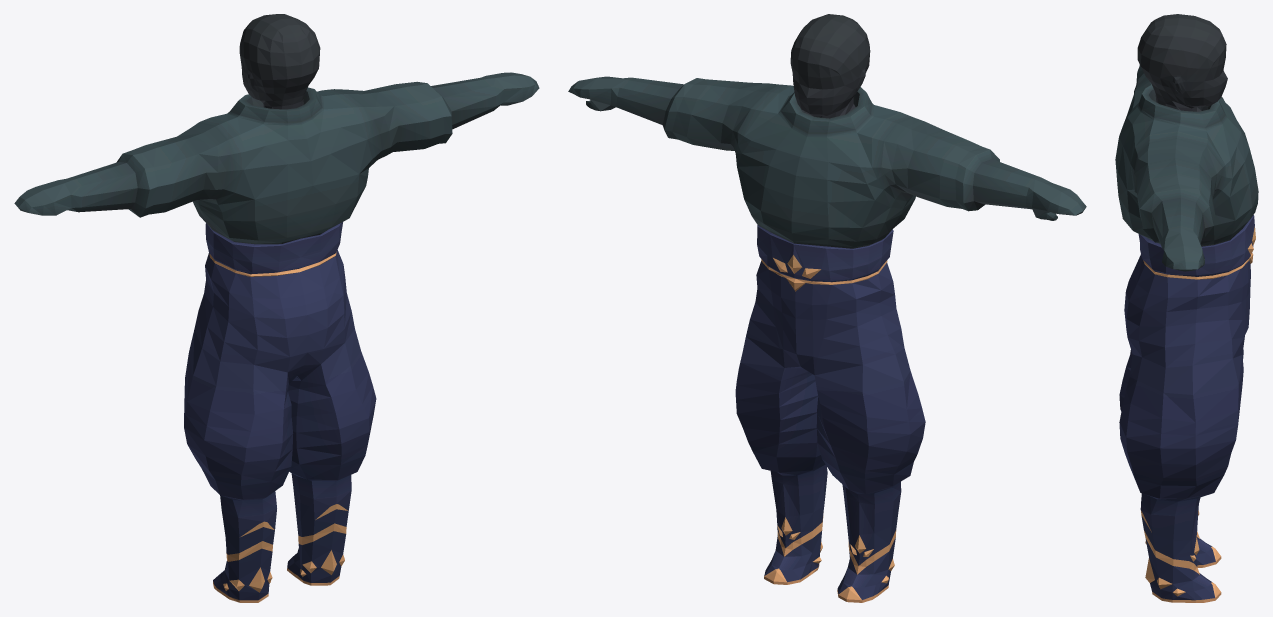
The model's file is CharSkyNPC_Body_DancerRig.glb.
The picture shows the model from 3 angles, left to right: view 1: azimuth 30°, elevation 25°; view 2: azimuth 150°, elevation 25°; view 3: azimuth 270°, elevation 25°; orthographic projection.
Visible parts, largest first — view 1: CharSkyNPC_Body_DancerRig; view 2: CharSkyNPC_Body_DancerRig; view 3: CharSkyNPC_Body_DancerRig.
Part boxes in pixels (box(x1,y1,x2,y2)): CharSkyNPC_Body_DancerRig: box(14, 14, 539, 602); CharSkyNPC_Body_DancerRig: box(568, 14, 1086, 602); CharSkyNPC_Body_DancerRig: box(1115, 14, 1258, 602).
Bounding box in the file's own units: 13.51 × 14.09 × 3.27.
1 material, 1 textured.
